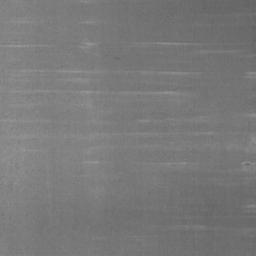Waist folding: (0, 0, 202, 96), (0, 112, 256, 173), (132, 40, 256, 80), (172, 203, 256, 231), (152, 160, 195, 167), (201, 12, 256, 16), (100, 232, 137, 237), (85, 159, 100, 165)
